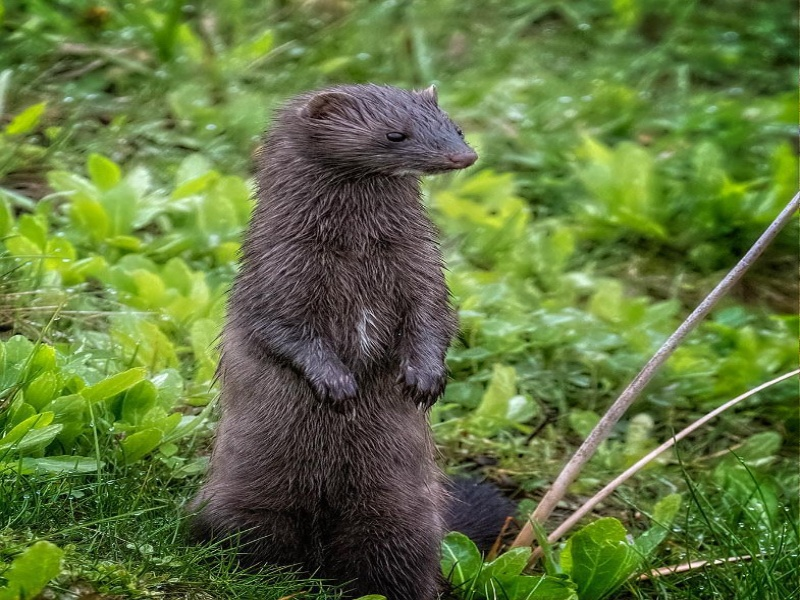minkish: (203, 60, 514, 591)
